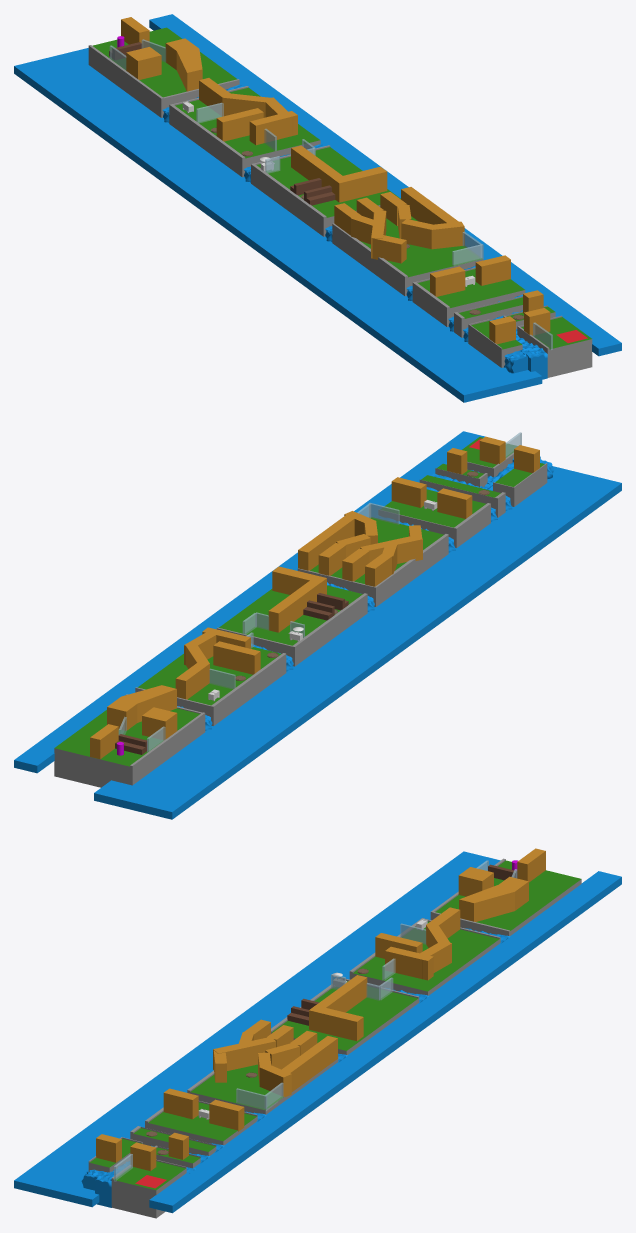
Rendered from gamejam_levelblend.fbx.
3 views of the same model, one above another, from view 1: azimuth 30°, elevation 25°; view 2: azimuth 150°, elevation 25°; view 3: azimuth 330°, elevation 25° (orthographic).
Parts seen in each view (by area): view 1: Cube.010, Cube.025, Cube, Cube.007, Cube.019, Cube.017, Cube.021, Cube.058, Cube.034, Cube.056, Cube.016, Cube.051 (+17 smaller); view 2: Cube.010, Cube.025, Cube, Cube.017, Cube.007, Cube.019, Cube.021, Cube.026, Cube.056, Cube.013, Cube.051, Cube.003 (+16 smaller); view 3: Cube.010, Cube.025, Cube.007, Cube, Cube.017, Cube.019, Cube.058, Cube.021, Cube.003, Cube.034, Cube.016, Cube.026 (+17 smaller).
Boxes of the visible parts, x1=… form: Cube.010: x1=14, y1=48, x2=542, y2=402; Cube.025: x1=149, y1=14, x2=621, y2=356; Cube: x1=88, y1=27, x2=239, y2=117; Cube.007: x1=169, y1=86, x2=320, y2=177; Cube.019: x1=332, y1=216, x2=483, y2=296; Cube.017: x1=251, y1=145, x2=400, y2=236; Cube.021: x1=412, y1=267, x2=525, y2=326; Cube.058: x1=517, y1=315, x2=592, y2=377; Cube.034: x1=332, y1=166, x2=387, y2=202; Cube.056: x1=468, y1=319, x2=522, y2=367; Cube.016: x1=249, y1=111, x2=297, y2=145; Cube.051: x1=454, y1=296, x2=522, y2=337; Cube.010: x1=94, y1=466, x2=621, y2=819; Cube.025: x1=14, y1=431, x2=484, y2=773; Cube: x1=54, y1=694, x2=205, y2=787; Cube.017: x1=216, y1=585, x2=367, y2=666; Cube.007: x1=135, y1=646, x2=286, y2=725; Cube.019: x1=297, y1=517, x2=448, y2=606; Cube.021: x1=378, y1=489, x2=490, y2=547; Cube.026: x1=268, y1=577, x2=320, y2=632; Cube.056: x1=493, y1=463, x2=547, y2=506; Cube.013: x1=213, y1=641, x2=260, y2=674; Cube.051: x1=419, y1=475, x2=505, y2=517; Cube.003: x1=121, y1=685, x2=176, y2=722; Cube.010: x1=14, y1=851, x2=500, y2=1207; Cube.025: x1=149, y1=871, x2=621, y2=1213; Cube.007: x1=349, y1=918, x2=500, y2=995; Cube: x1=430, y1=858, x2=581, y2=935; Cube.017: x1=271, y1=978, x2=419, y2=1054; Cube.019: x1=187, y1=1056, x2=338, y2=1114; Cube.058: x1=111, y1=1159, x2=186, y2=1218; Cube.021: x1=145, y1=1101, x2=257, y2=1145; Cube.003: x1=459, y1=883, x2=514, y2=921; Cube.034: x1=309, y1=1005, x2=363, y2=1041; Cube.016: x1=385, y1=946, x2=433, y2=980; Cube.026: x1=316, y1=975, x2=367, y2=1012.
Bounding box in the file's own units: 1560 × 451 × 7672.
